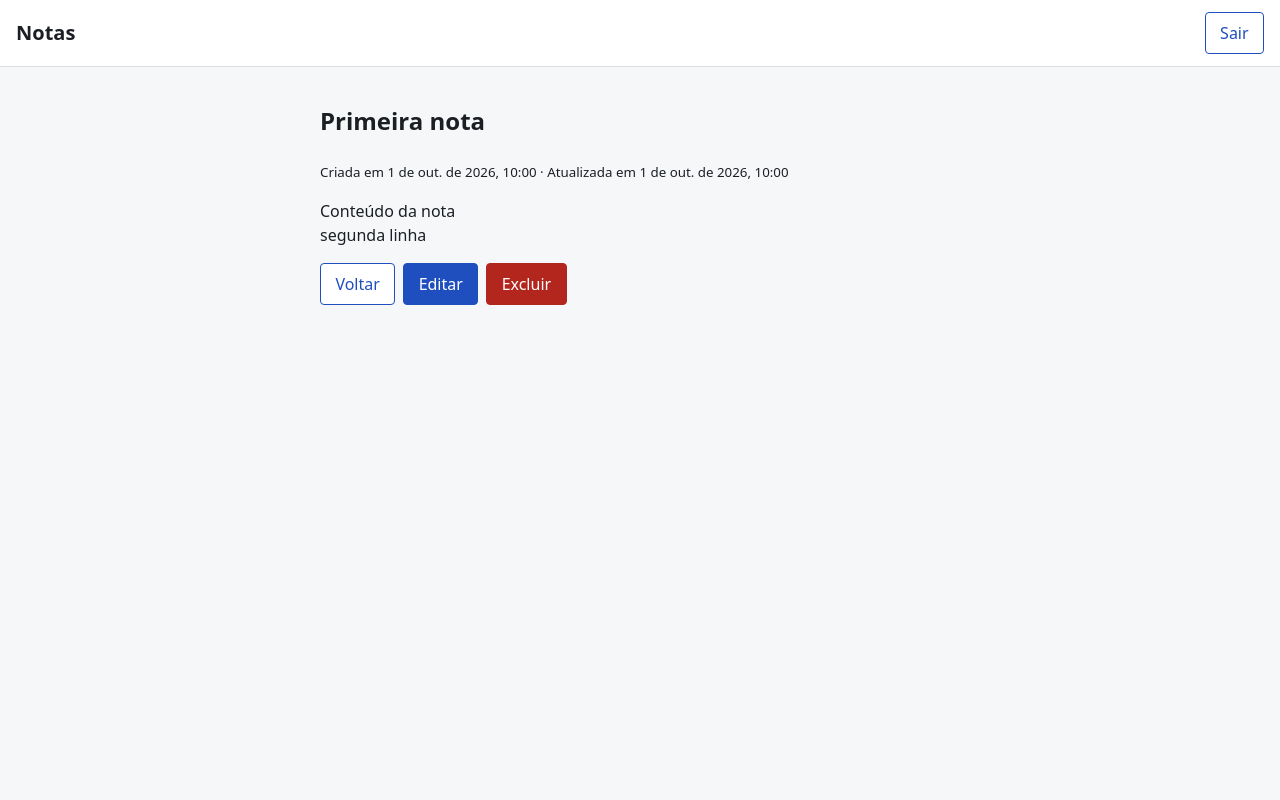
Test: exclusão de nota › em falha mantém a nota e informa que a exclusão não foi confirmada
Click the button "Excluir" at (526, 284), box [486,263,567,305]
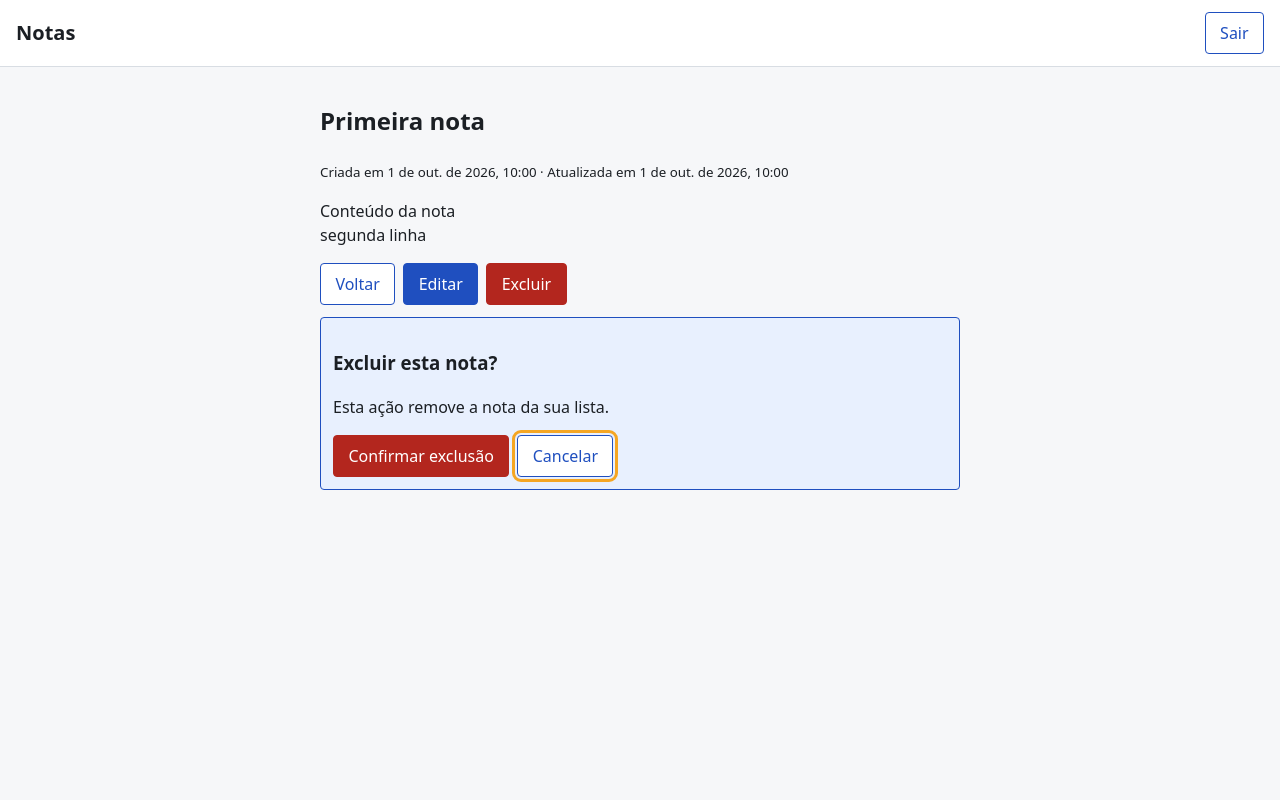
Click the button "Confirmar exclusão" at (421, 456), box [333,435,509,477]
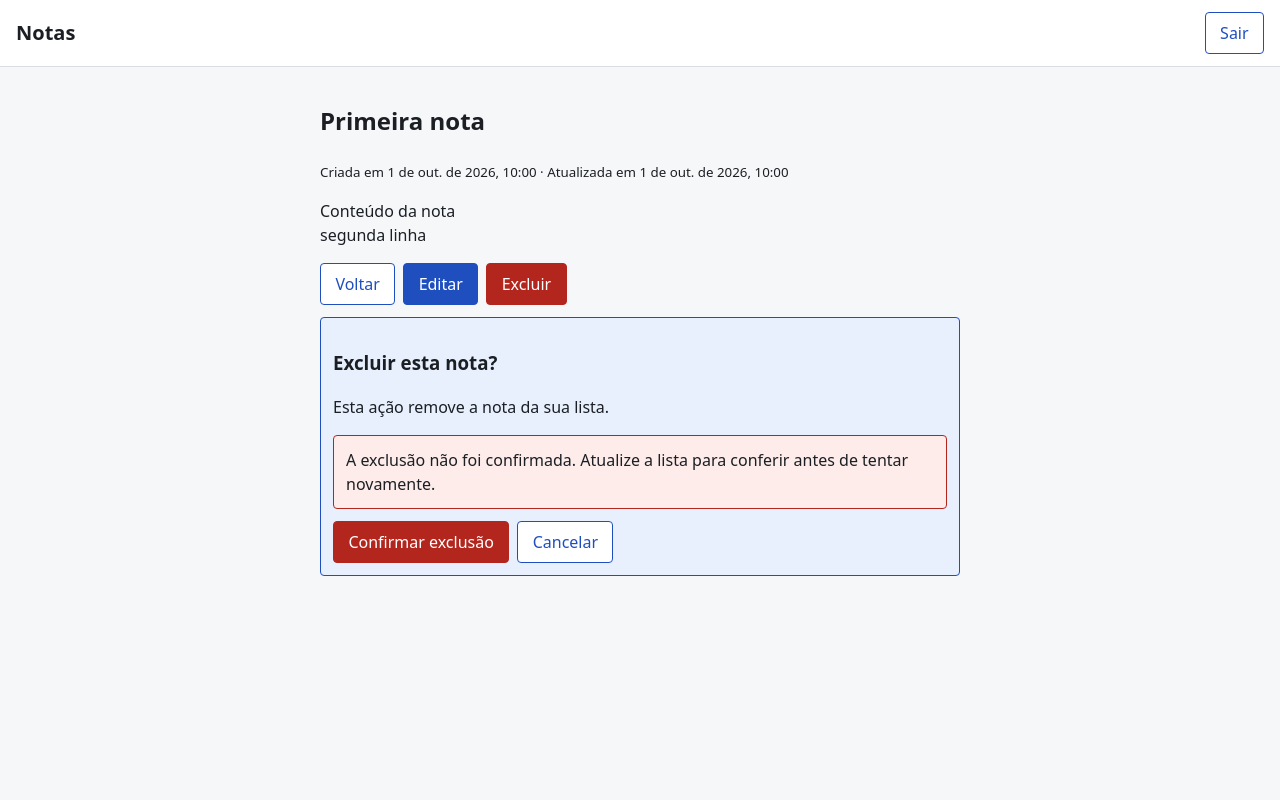
Expected: the heading "Primeira nota" is shown, [320,104,485,137]
Result: the message shows "não foi confirmada" at [346,449,908,495]
